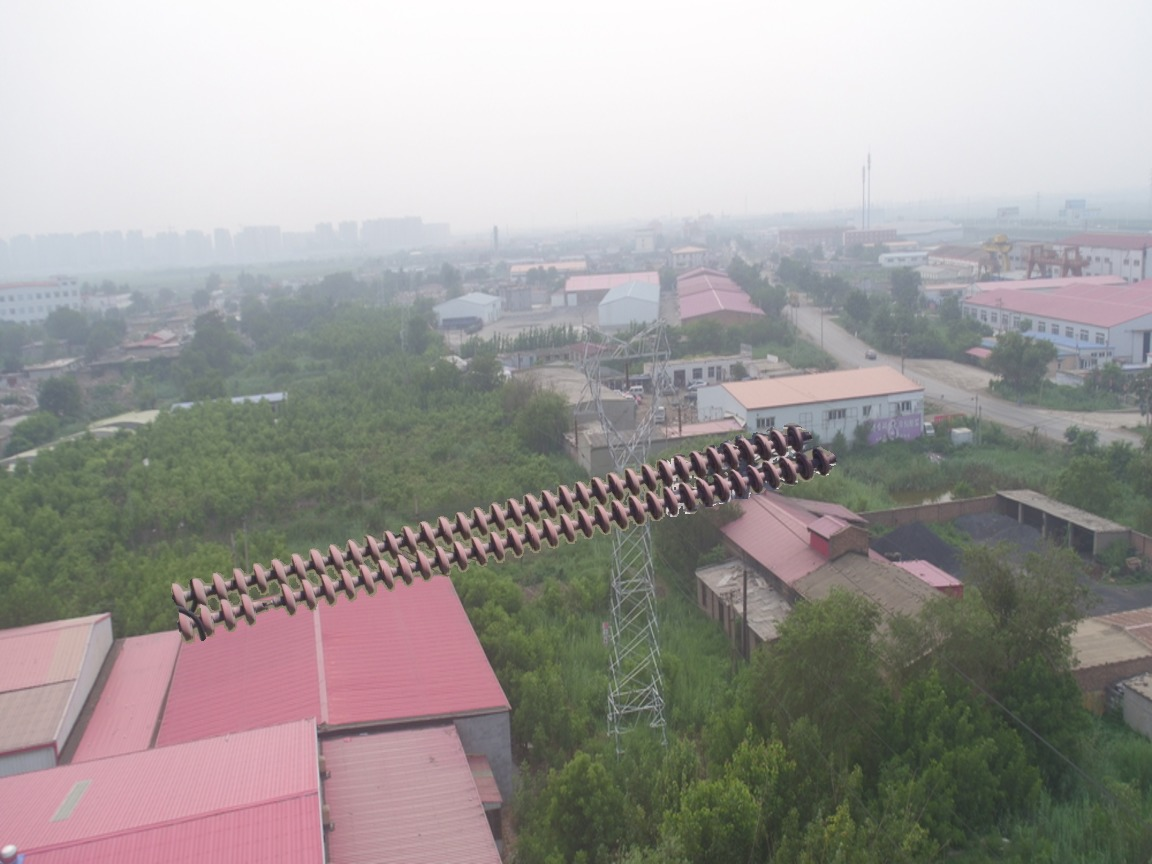defect: (228, 580, 300, 628)
